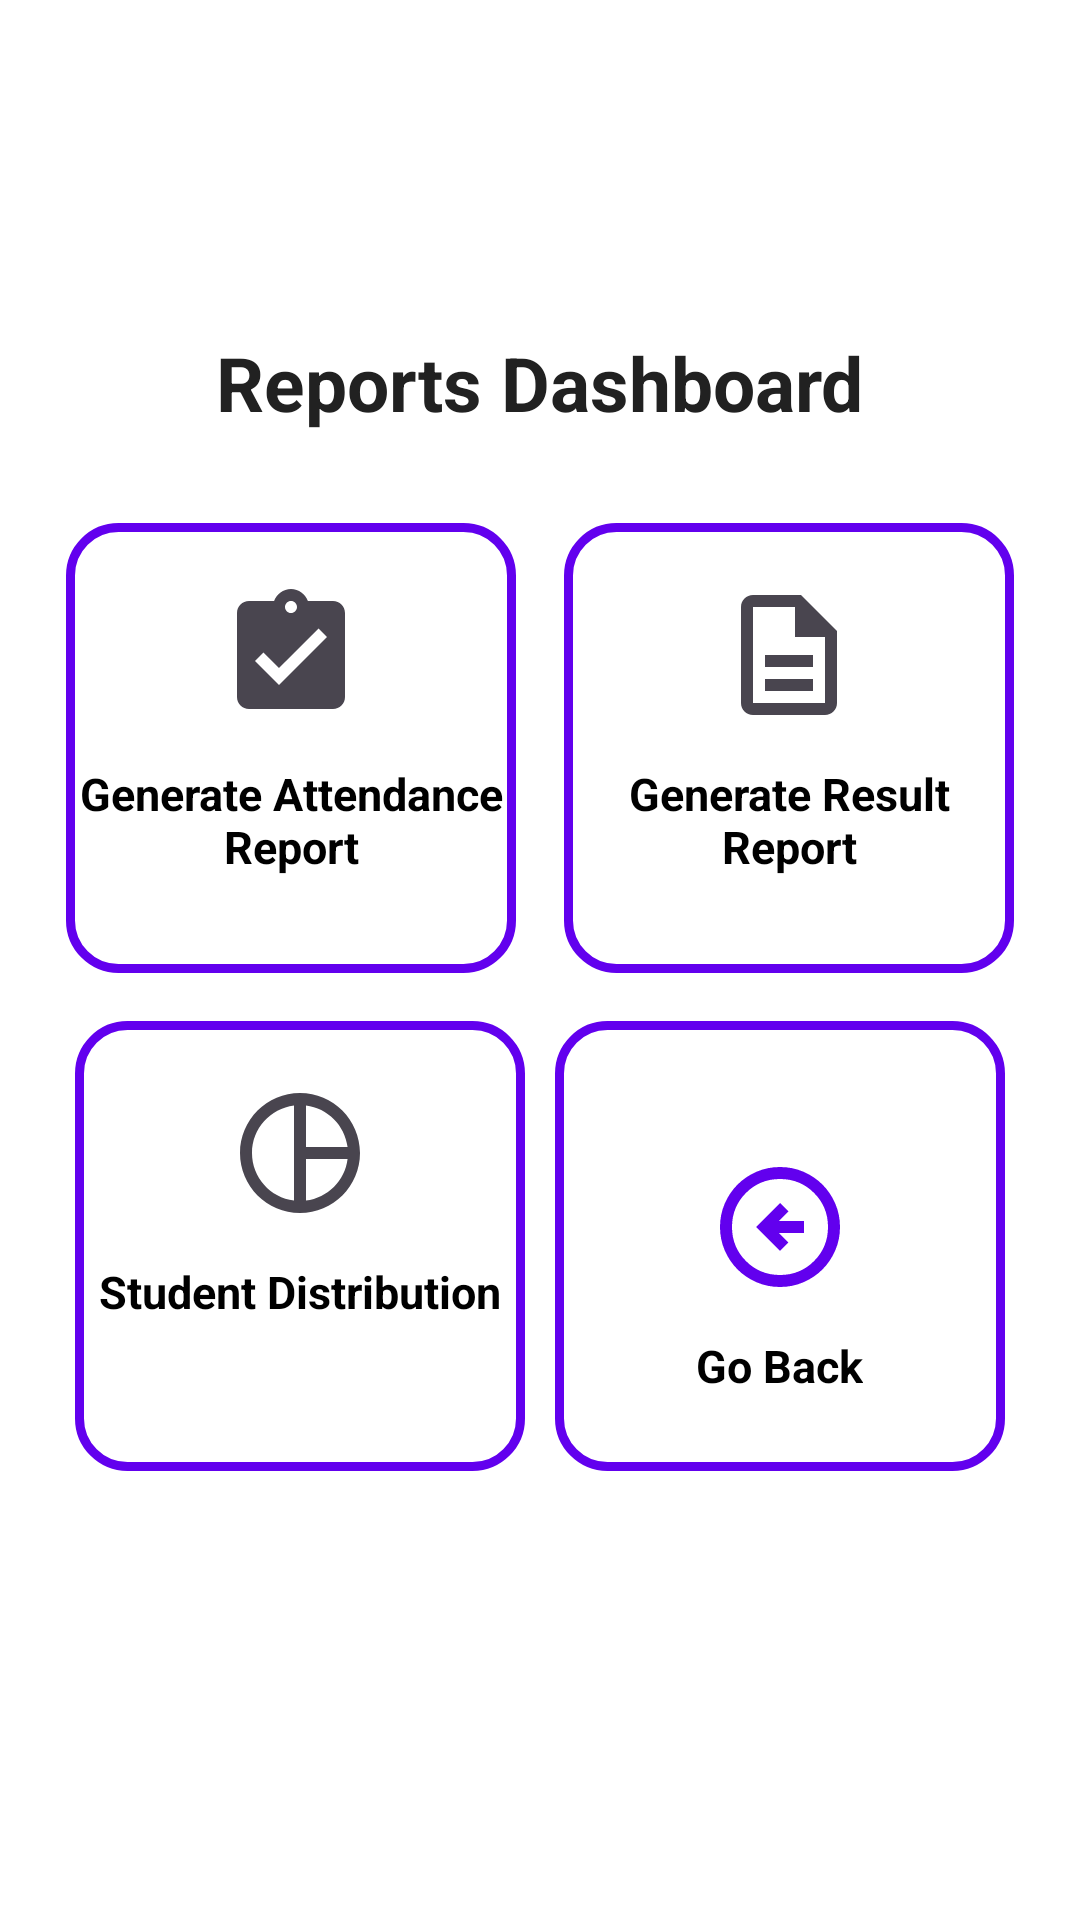

Point at icon controls on the screen. Image size 1080*1920, points as [x,y].
arrow circle left: [780,1227]
checklist: [291,649]
description: [789,655]
pie chart: [300,1153]
